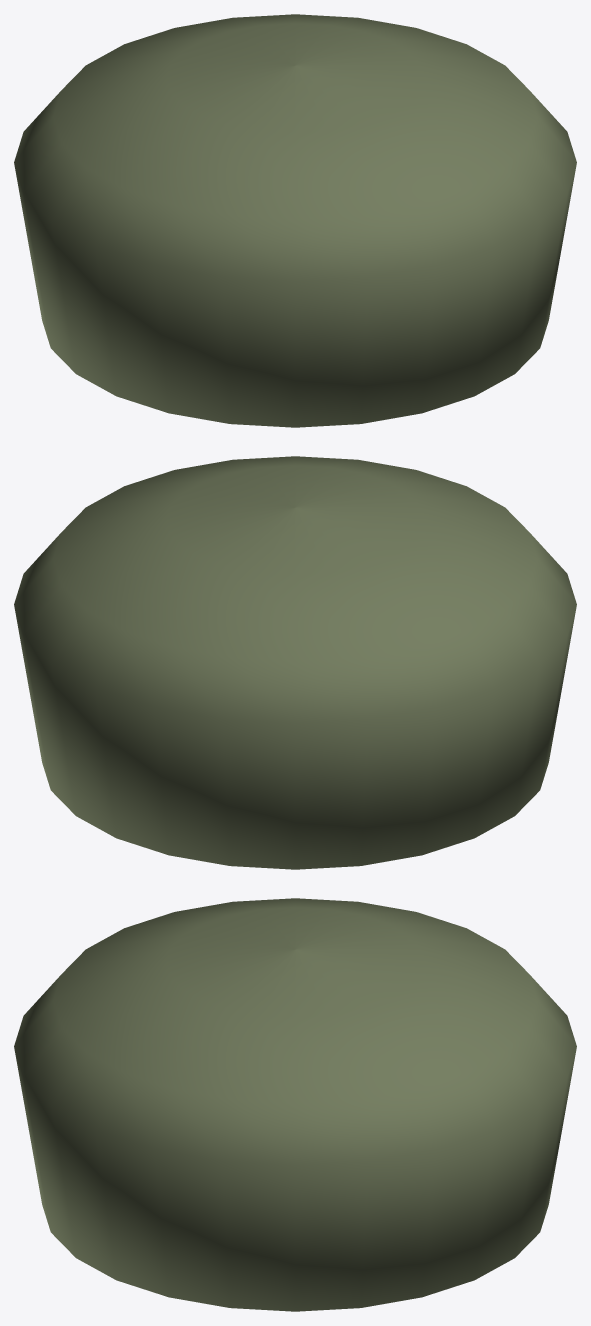
Rendered from grenade-round.glb.
The picture shows the model from 3 angles, top to bottom: view 1: azimuth 30°, elevation 25°; view 2: azimuth 150°, elevation 25°; view 3: azimuth 270°, elevation 25°; orthographic projection.
Visible parts, largest first — view 1: rounded-grenade; view 2: rounded-grenade; view 3: rounded-grenade.
Boxes of the visible parts, bbox=[...] form: rounded-grenade: bbox=[14, 14, 576, 427]; rounded-grenade: bbox=[14, 456, 576, 869]; rounded-grenade: bbox=[14, 898, 576, 1311].
Size of the model in its own units: 2 by 1 by 2.
